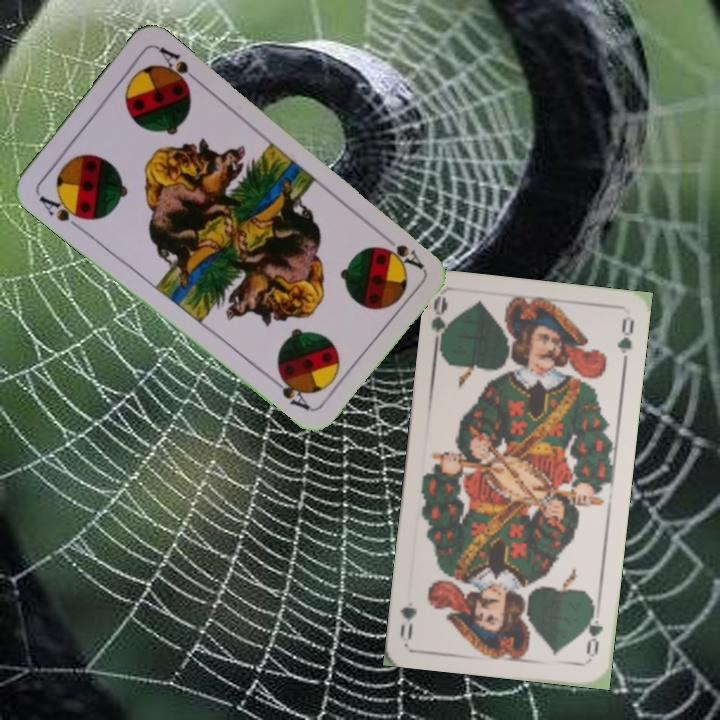GO: (427, 293, 454, 354), (580, 603, 606, 662)
SA: (34, 191, 90, 232), (381, 240, 426, 272)
